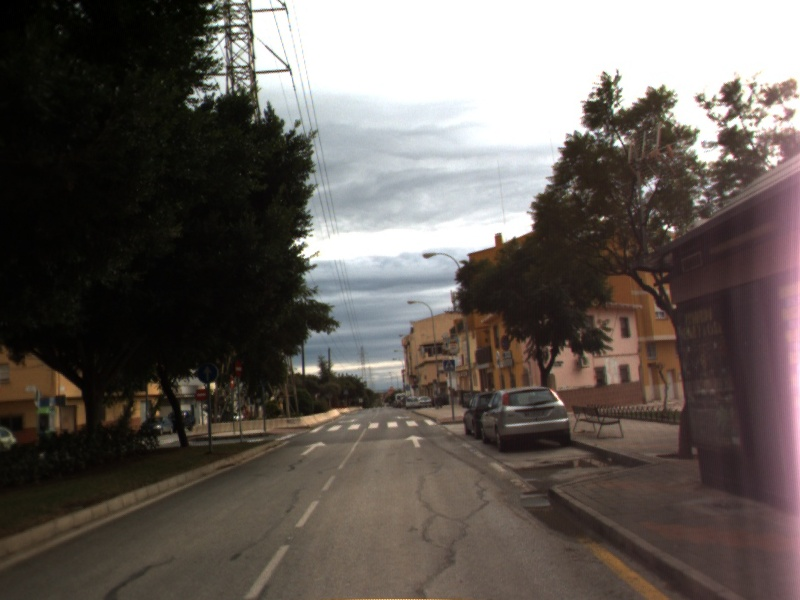STRAIGHT: (298, 439, 328, 457), (402, 433, 427, 449)
